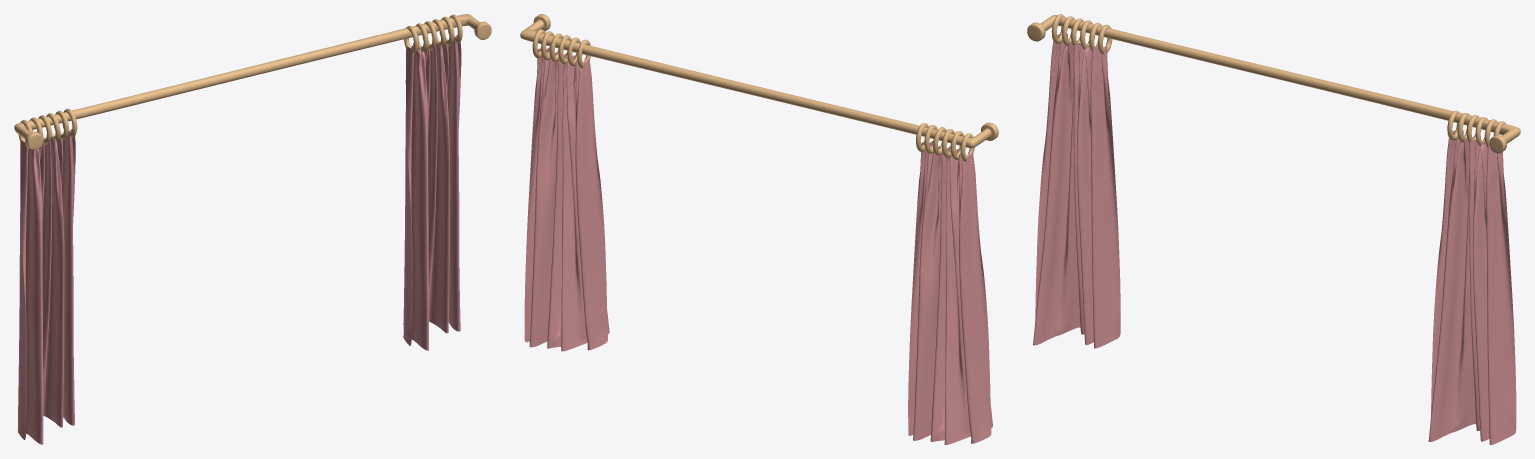
Rendered from Cortinas.fbx.
3 renders of one model, left to right at view 1: azimuth 30°, elevation 25°; view 2: azimuth 150°, elevation 25°; view 3: azimuth 330°, elevation 25°, orthographic. The views are drawn at different scales.
Visible parts, largest first — view 1: Cortina 1.002, Cortina 1.001, Soporte cortinas, Anillos cortina.002, Anillos cortina.001; view 2: Cortina 1.002, Cortina 1.001, Soporte cortinas, Anillos cortina.001, Anillos cortina.002; view 3: Cortina 1.001, Cortina 1.002, Soporte cortinas, Anillos cortina.001, Anillos cortina.002.
Boxes of the visible parts, x1,y1,x2,y2 form: Cortina 1.002: (403,35,461,350); Cortina 1.001: (18,129,75,444); Soporte cortinas: (14,14,491,149); Anillos cortina.002: (404,14,462,54); Anillos cortina.001: (18,108,77,148); Cortina 1.002: (524,47,609,351); Cortina 1.001: (908,141,992,444); Soporte cortinas: (520,14,998,148); Anillos cortina.001: (916,123,974,162); Anillos cortina.002: (532,29,590,68); Cortina 1.001: (1033,34,1120,348); Cortina 1.002: (1428,130,1516,444); Soporte cortinas: (1027,15,1520,153); Anillos cortina.001: (1051,14,1112,54); Anillos cortina.002: (1447,110,1505,147).
Bounding box in the file's own units: 23.92 × 15.32 × 3.03.
